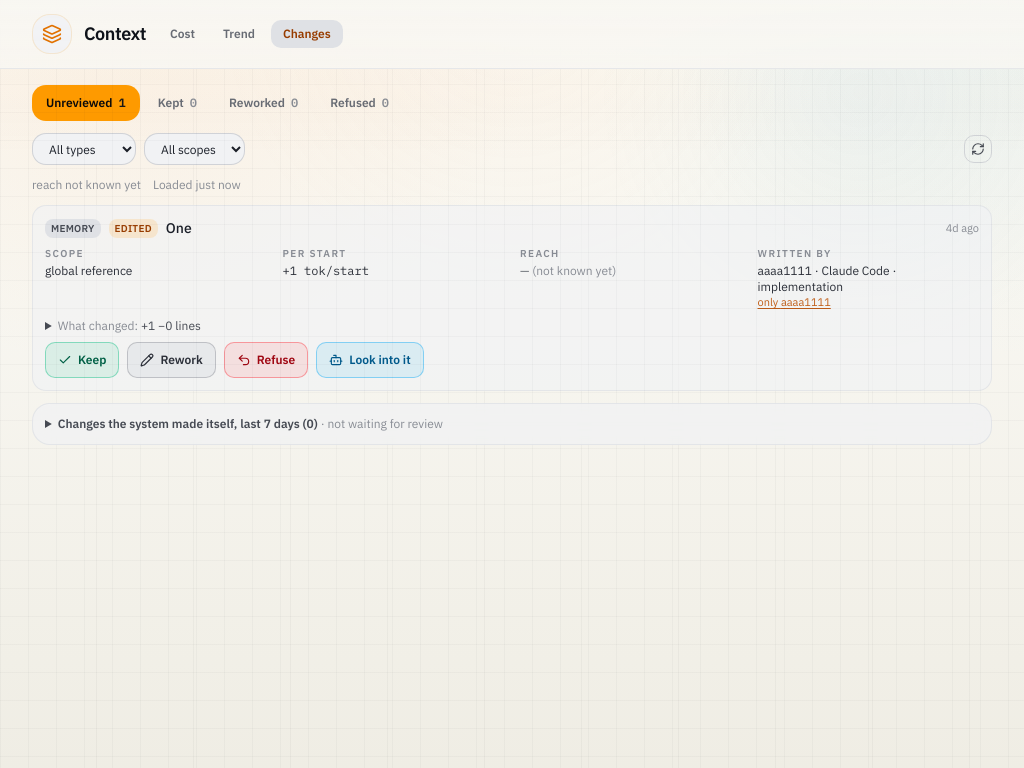
Test: Changes page › explains a 422 in plain words and leaves the row
Click the button with aria-label "Keep One" at x=82, y=360, box [45,342,119,378]
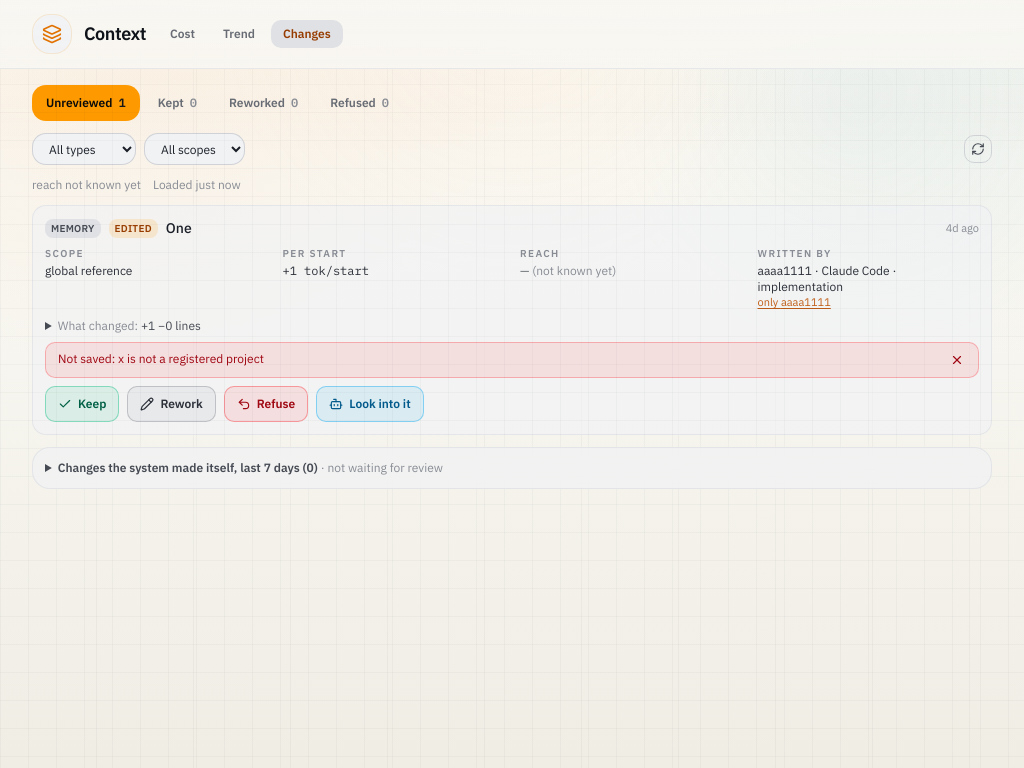
Expected: the heading "One" is shown, [166,219,192,237]
Now the text "Not saved: x is not a registered project" is shown, box [58,351,264,366]
